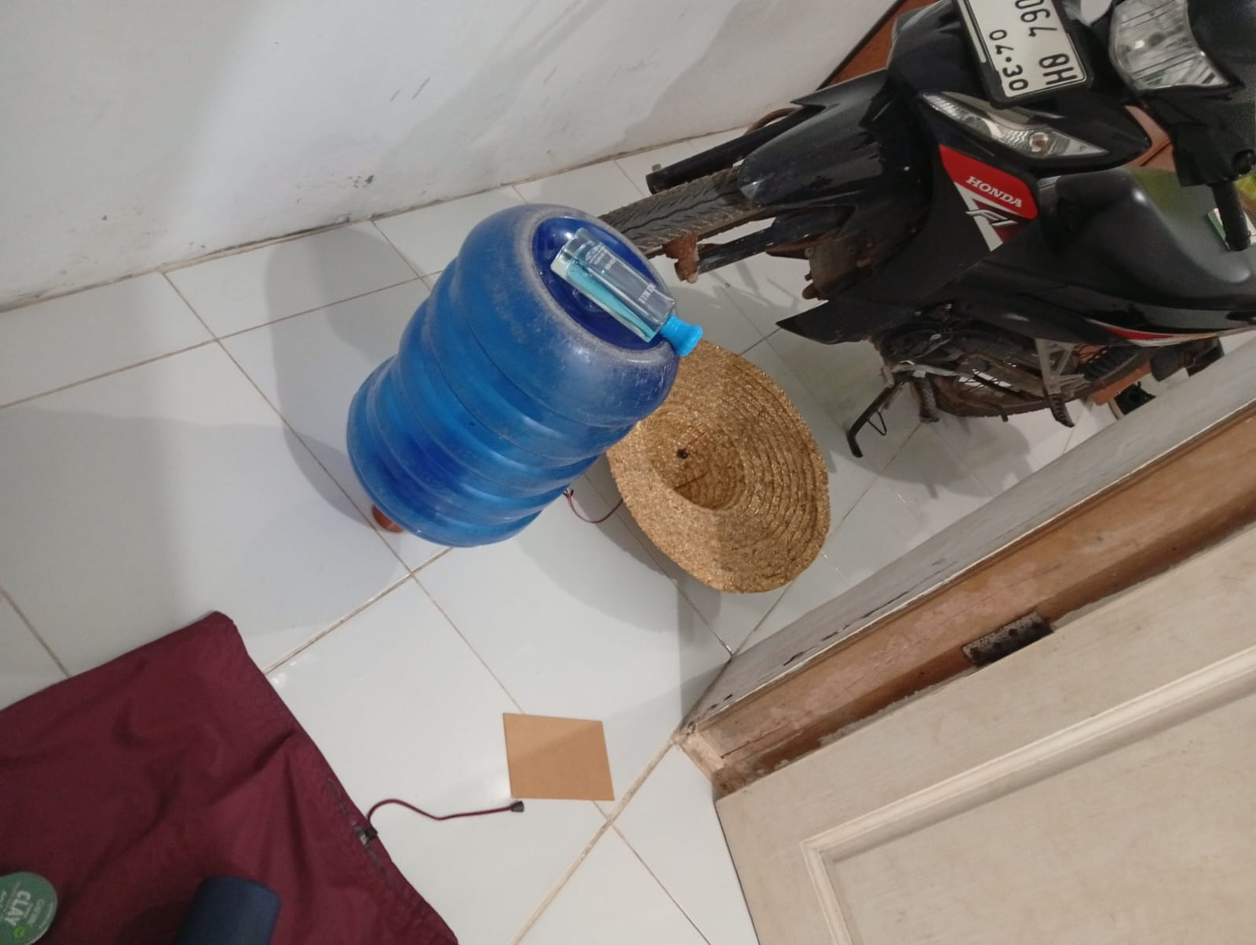Parfum: (575, 206, 764, 286)
